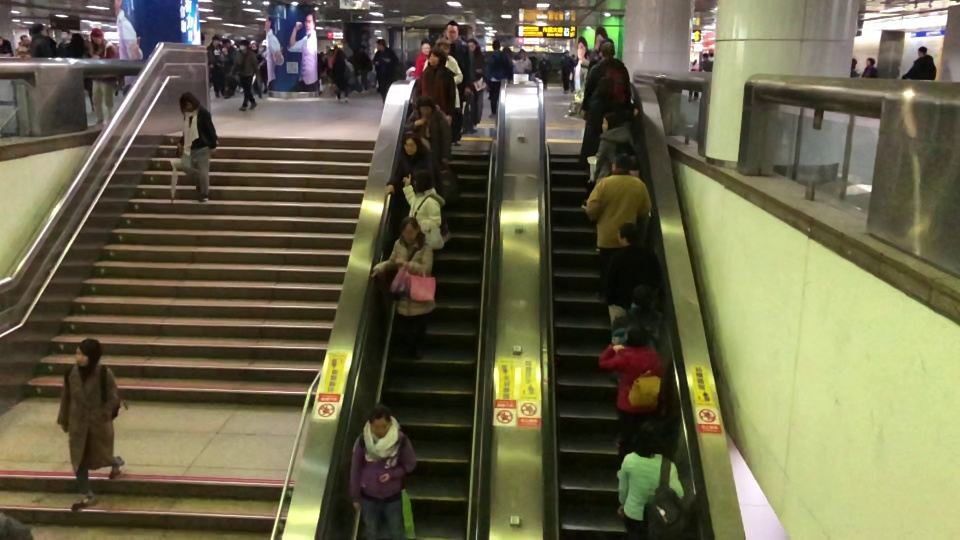person_head: (632, 420, 665, 456), (74, 337, 103, 368), (368, 403, 391, 434), (631, 284, 656, 309), (617, 221, 641, 246), (623, 324, 649, 346), (401, 131, 423, 156), (399, 215, 420, 240), (413, 168, 433, 191), (426, 47, 447, 67), (601, 111, 622, 131), (417, 95, 435, 118), (178, 91, 198, 111), (598, 75, 615, 96), (610, 154, 630, 171), (600, 41, 615, 59), (435, 38, 449, 57), (89, 28, 105, 44), (446, 19, 458, 40), (419, 38, 430, 54), (32, 23, 45, 35), (70, 33, 83, 44), (917, 45, 928, 57), (467, 38, 478, 49), (237, 40, 249, 50), (211, 34, 221, 46), (376, 37, 385, 49), (865, 56, 876, 65), (850, 57, 857, 71), (492, 39, 501, 49), (252, 41, 258, 50), (702, 52, 708, 61), (692, 58, 697, 66), (0, 37, 2, 43)
person_vbox: (56, 337, 124, 513), (597, 324, 667, 473), (585, 154, 653, 305), (371, 215, 437, 362), (350, 402, 417, 540), (616, 420, 687, 540), (578, 75, 638, 212), (385, 131, 453, 243), (605, 221, 661, 330), (176, 90, 218, 201), (611, 284, 672, 359), (438, 19, 473, 148), (400, 168, 446, 251), (580, 42, 631, 111), (411, 47, 457, 123), (405, 96, 450, 167), (88, 28, 119, 125), (593, 111, 635, 181), (422, 37, 462, 109), (65, 32, 94, 112), (230, 40, 259, 110), (372, 36, 400, 108), (485, 38, 510, 116), (467, 39, 484, 132), (901, 45, 937, 81), (207, 34, 224, 97), (30, 23, 57, 56), (415, 38, 430, 76), (688, 58, 698, 102), (861, 55, 878, 78), (699, 53, 712, 73), (0, 37, 12, 57), (850, 57, 860, 77)
